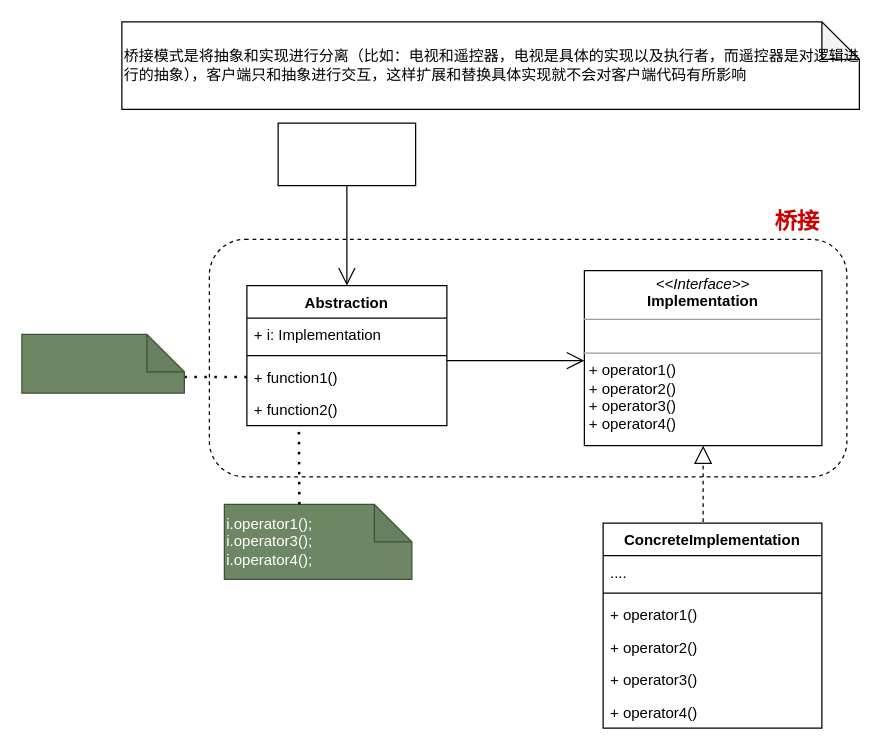
This 881x754 diagram has some shape labels left out. Each missing label, with the box of its shape:
Client: (277, 122, 416, 186)
i.operator1(); i.operator2();: (21, 333, 184, 393)
